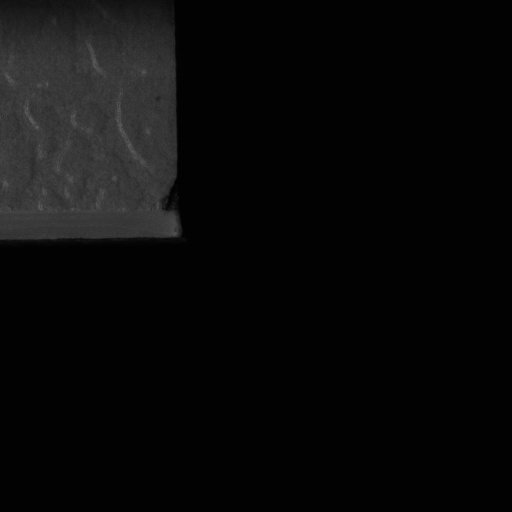bengque: (158, 177, 182, 215)
